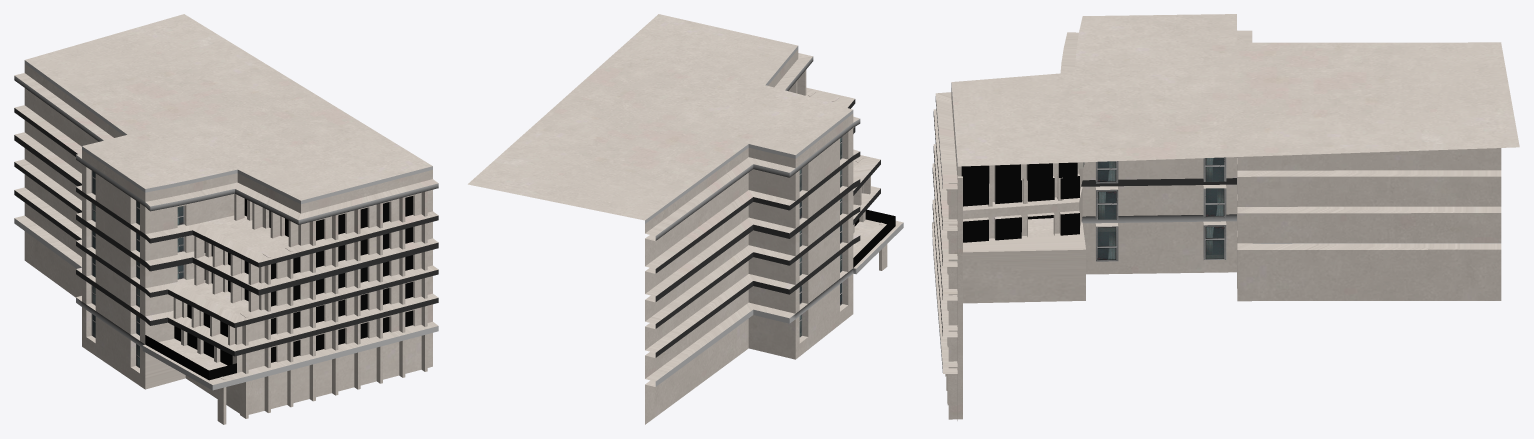
The model's file is SM_Building_03.fbx.
3 views of the same model, side by side, from view 1: azimuth 30°, elevation 25°; view 2: azimuth 150°, elevation 25°; view 3: azimuth 270°, elevation 25° (orthographic). The views are drawn at different scales.
Parts seen in each view (by area): view 1: SM_Building_03; view 2: SM_Building_03; view 3: SM_Building_03.
Boxes of the visible parts, x1,y1,x2,y2 form: SM_Building_03: [14, 14, 438, 424]; SM_Building_03: [468, 14, 903, 424]; SM_Building_03: [932, 14, 1519, 420].
Bounding box in the file's own units: 41.57 × 32.8 × 67.62.
